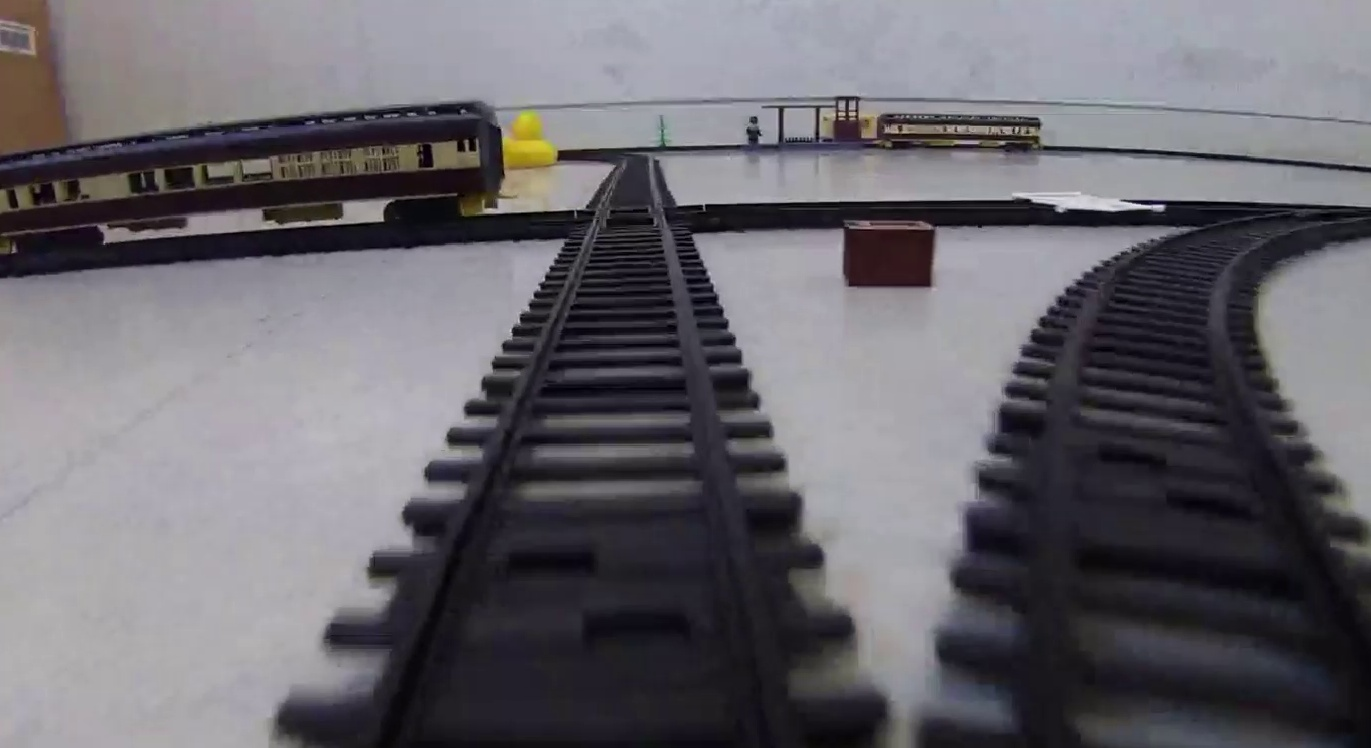box: (841, 216, 937, 291)
